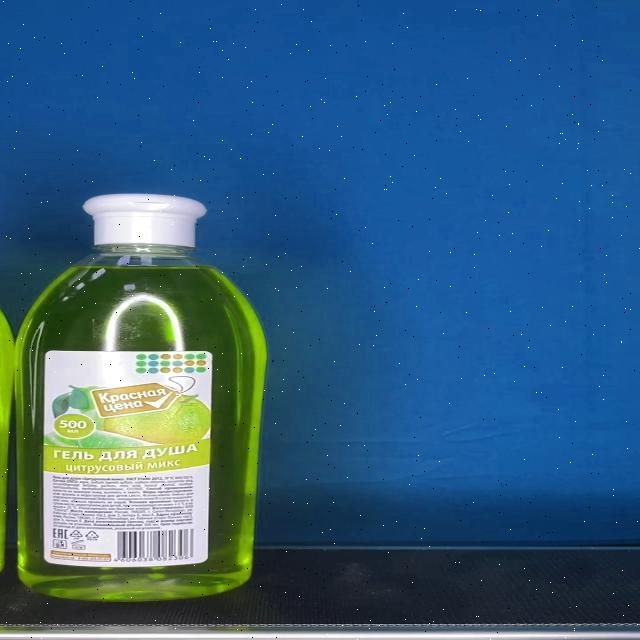Bottle: (12, 193, 268, 601)
Cap: (84, 194, 206, 247)
